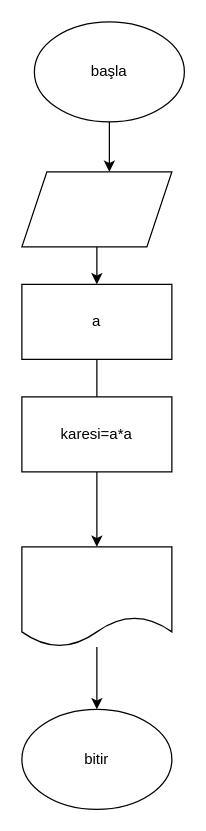
Some shapes in this 206 by 831 pixel diagram are drawn without their labels. The box of each missing label's shape, as (x1, y1, x2, y2) in pixels:
karesi: (21, 546, 172, 647)
sayıyı giriniz: (21, 171, 172, 247)
